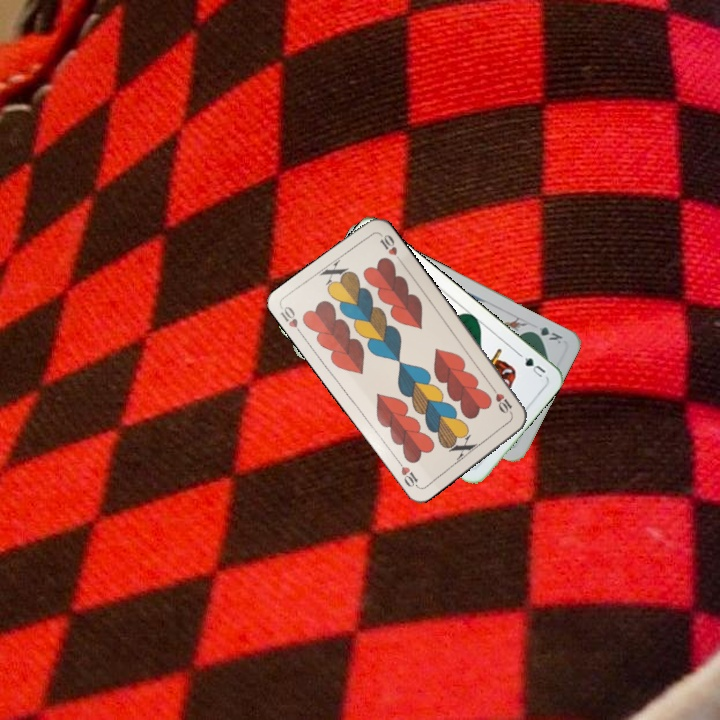GK: (526, 323, 565, 346)
GU: (519, 353, 548, 380)
H10: (277, 302, 306, 339), (487, 382, 515, 418)
